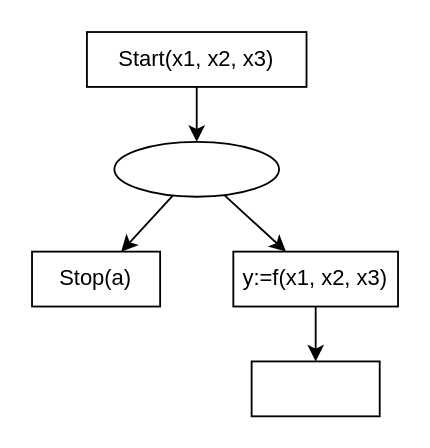
Some shapes in this 430 by 448 pixel diagram are drawn without their labels. The box of each missing label's shape, as (x1, y1, x2, y2) in pixels:
p(x1, x3): (113, 140, 279, 197)
Stop(y): (250, 360, 380, 416)
